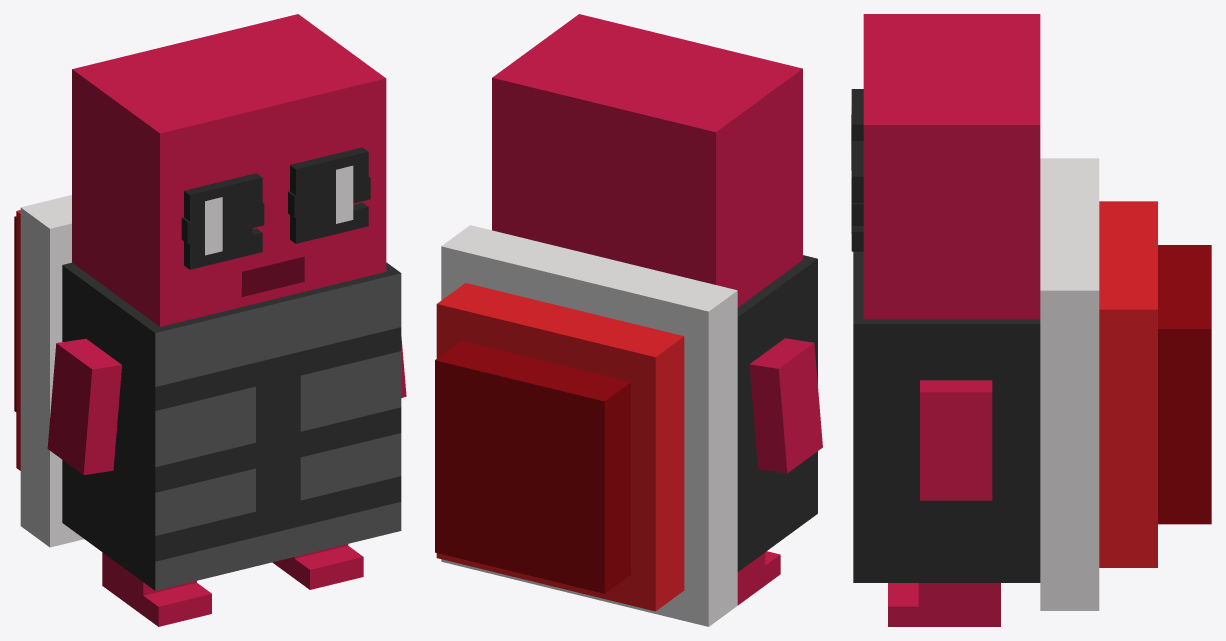
3 views of the same model, side by side, from view 1: azimuth 30°, elevation 25°; view 2: azimuth 150°, elevation 25°; view 3: azimuth 270°, elevation 25° (orthographic).
Parts seen in each view (by area): view 1: Ch_06, Ch_06_Wing_L, Ch_06_Leg_L, Ch_06_Eye_03_L, Ch_06_Eye_03_R, Ch_06_Leg_R; view 2: Ch_06, Ch_06_Wing_L, Ch_06_Leg_L; view 3: Ch_06, Ch_06_Wing_R, Ch_06_Leg_R, Ch_06_Eye_03_R, Ch_06_Eye_03_L.
Part boxes in pixels (x1=…): Ch_06: x1=14, y1=14, x2=401, y2=590; Ch_06_Wing_L: x1=47, y1=338, x2=121, y2=474; Ch_06_Leg_L: x1=102, y1=552, x2=211, y2=626; Ch_06_Eye_03_L: x1=184, y1=173, x2=262, y2=269; Ch_06_Eye_03_R: x1=290, y1=147, x2=368, y2=243; Ch_06_Leg_R: x1=272, y1=544, x2=363, y2=589; Ch_06: x1=435, y1=14, x2=817, y2=626; Ch_06_Wing_L: x1=749, y1=338, x2=822, y2=473; Ch_06_Leg_L: x1=737, y1=551, x2=780, y2=605; Ch_06: x1=851, y1=14, x2=1211, y2=610; Ch_06_Wing_R: x1=920, y1=380, x2=992, y2=500; Ch_06_Leg_R: x1=888, y1=583, x2=1000, y2=626; Ch_06_Eye_03_R: x1=851, y1=141, x2=863, y2=251; Ch_06_Eye_03_L: x1=851, y1=89, x2=863, y2=140.
Bounding box in the file's own units: 7.43 × 11.1 × 7.14.
